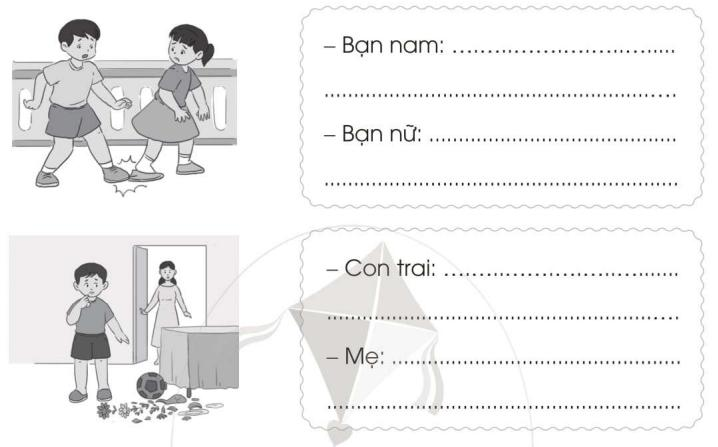text: (321, 35, 445, 60), (325, 256, 438, 281), (321, 122, 423, 148), (325, 344, 385, 370)
